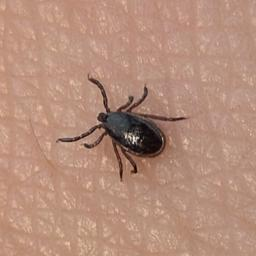Ixodes scapularis: (54, 157, 153, 256)
